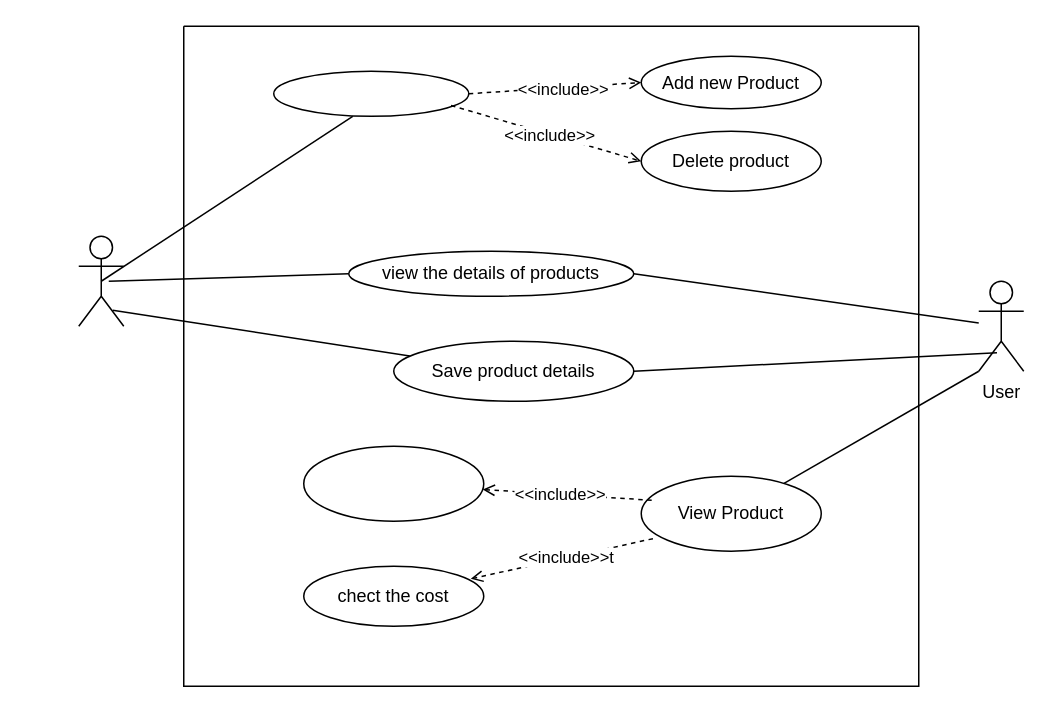
This 1050x713 diagram has some shape labels left out. Each missing label, with the centre of its shape:
Chect availability: point (393, 483)
Shopping Manager: point (100, 280)
Update Product List: point (370, 93)
